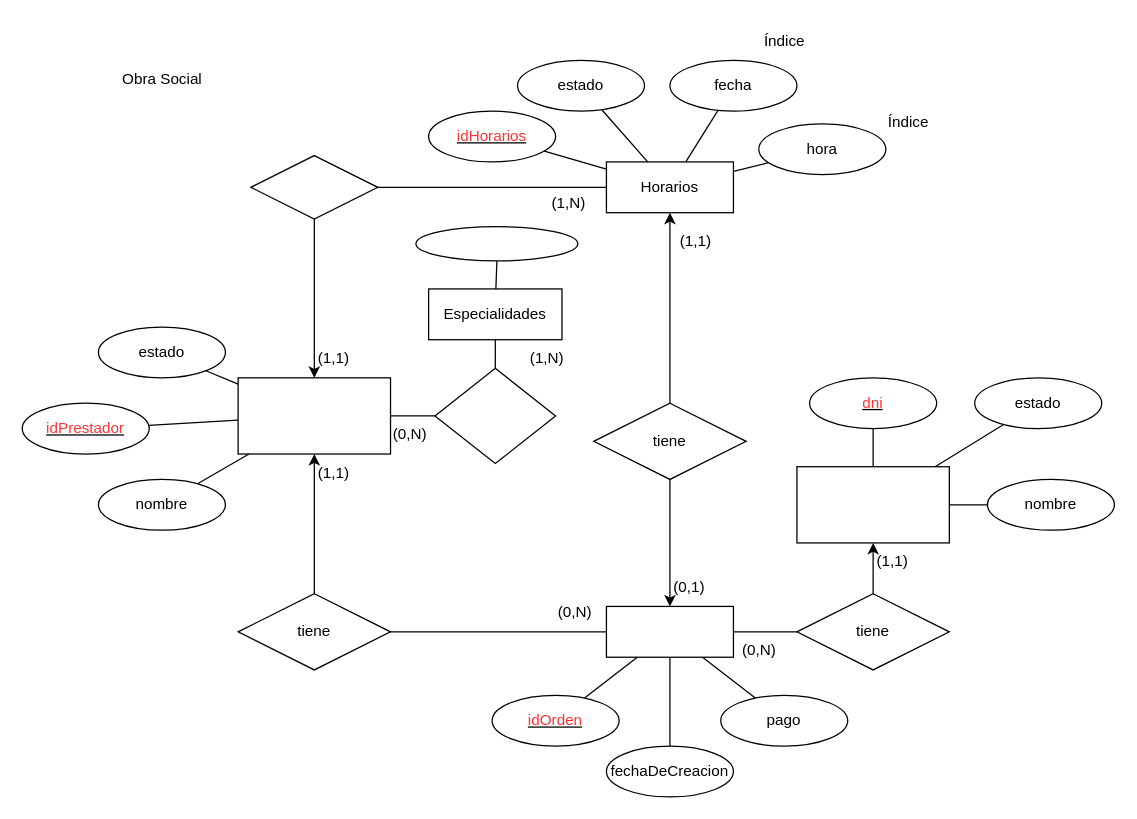
Image size: 1137x819. Some labels were removed from this diagram. The centre of each missing label's shape, as x and y in pixels:
"Afiliados" goes at point 872,504.
"especializacion" goes at point 495,415.
"nombreEspecialidad" goes at point 496,243.
"Orden" goes at point 669,631.
"posee" goes at point 314,186.
"Prestadores" goes at point 314,415.
